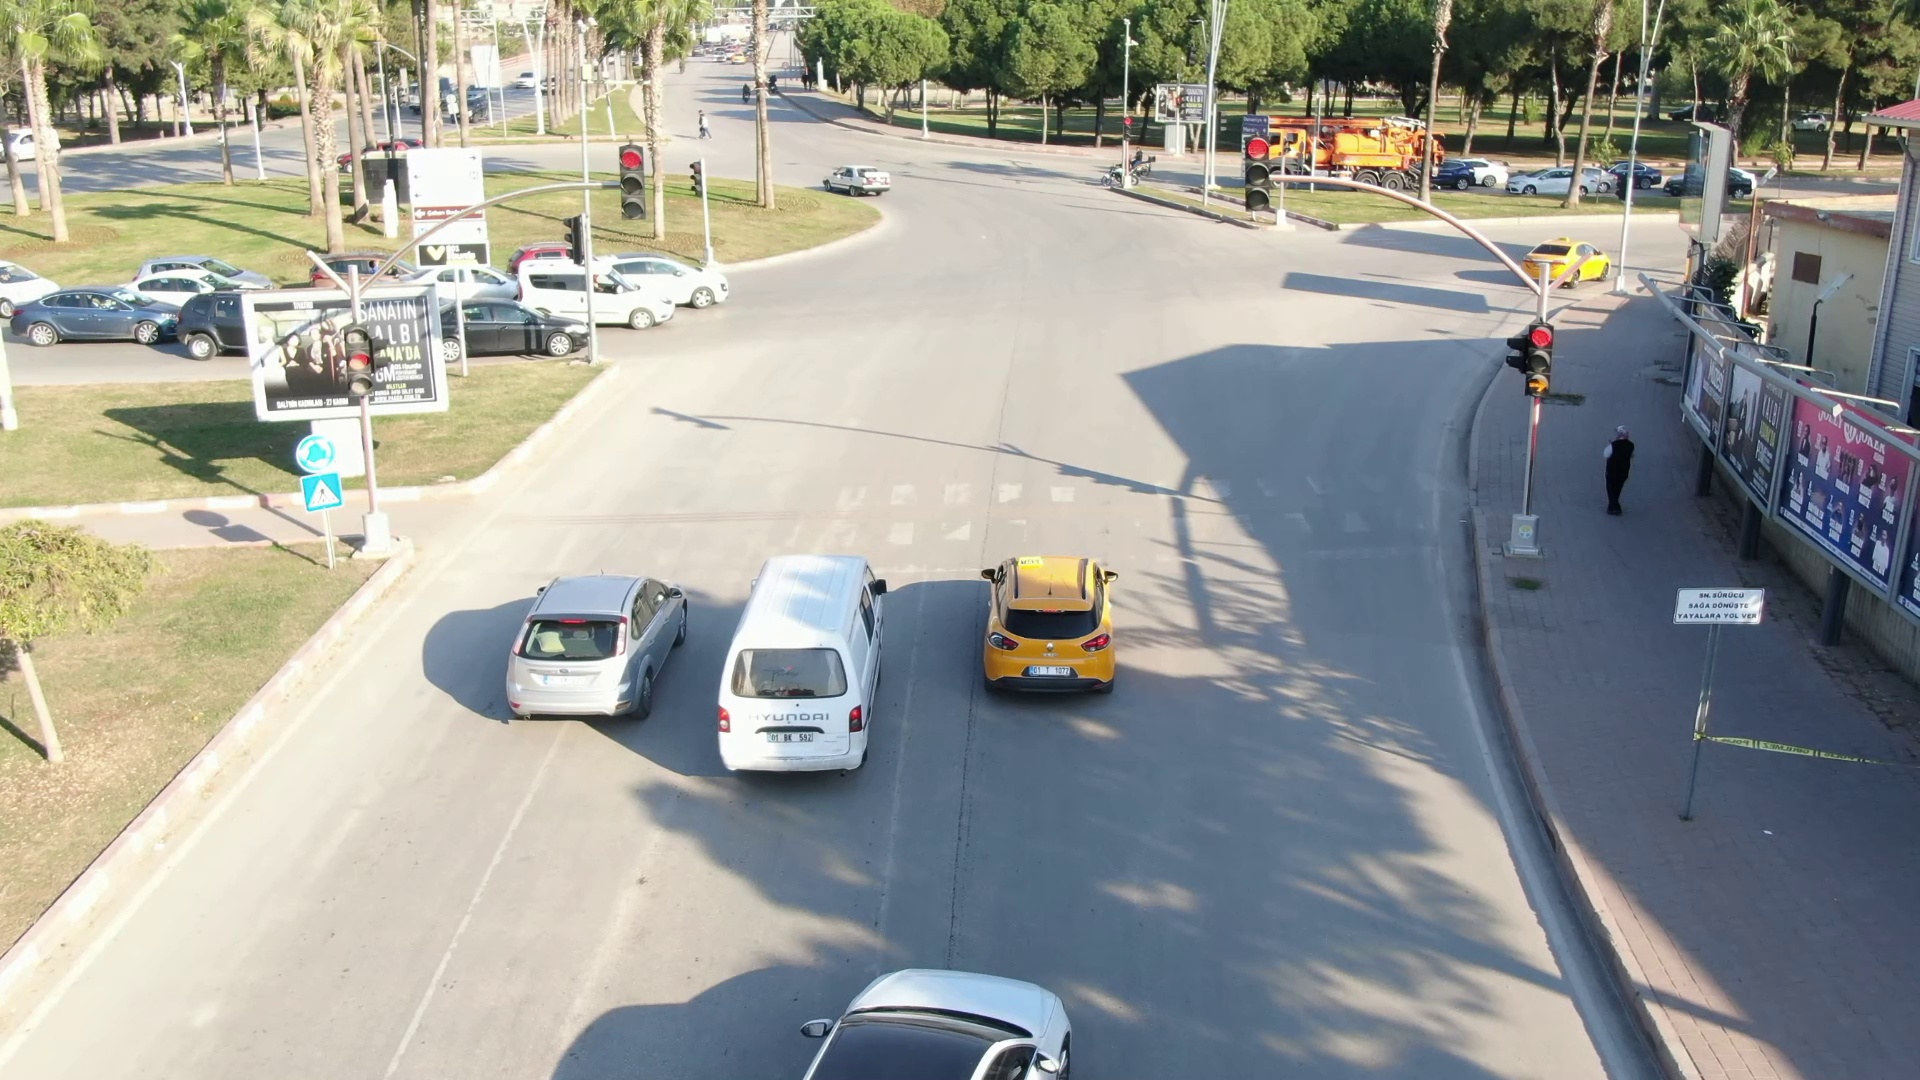car: (706, 545, 910, 772), (496, 545, 692, 737), (976, 547, 1139, 700), (523, 255, 674, 331), (441, 300, 588, 366), (610, 251, 723, 306), (1521, 243, 1608, 288), (823, 157, 894, 194)
person: (1596, 427, 1645, 523)
